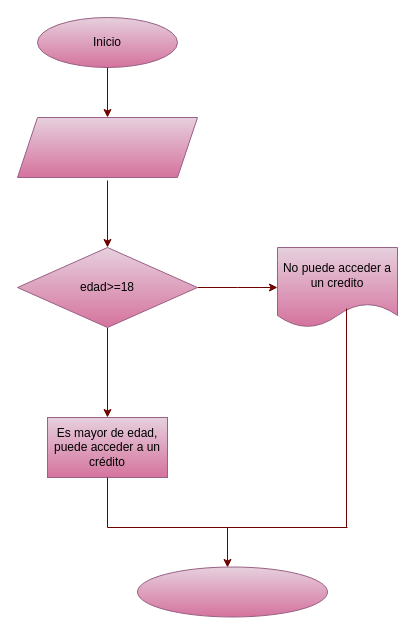
The diagram is 415 pixels wide and 635 high, and some of its shapes have lost their labels. Here are the shapes that lost their labels. From the top down, the centre of each, then its label:
At point (107, 147): "nombre= edad=".
At point (232, 591): "Fin".
